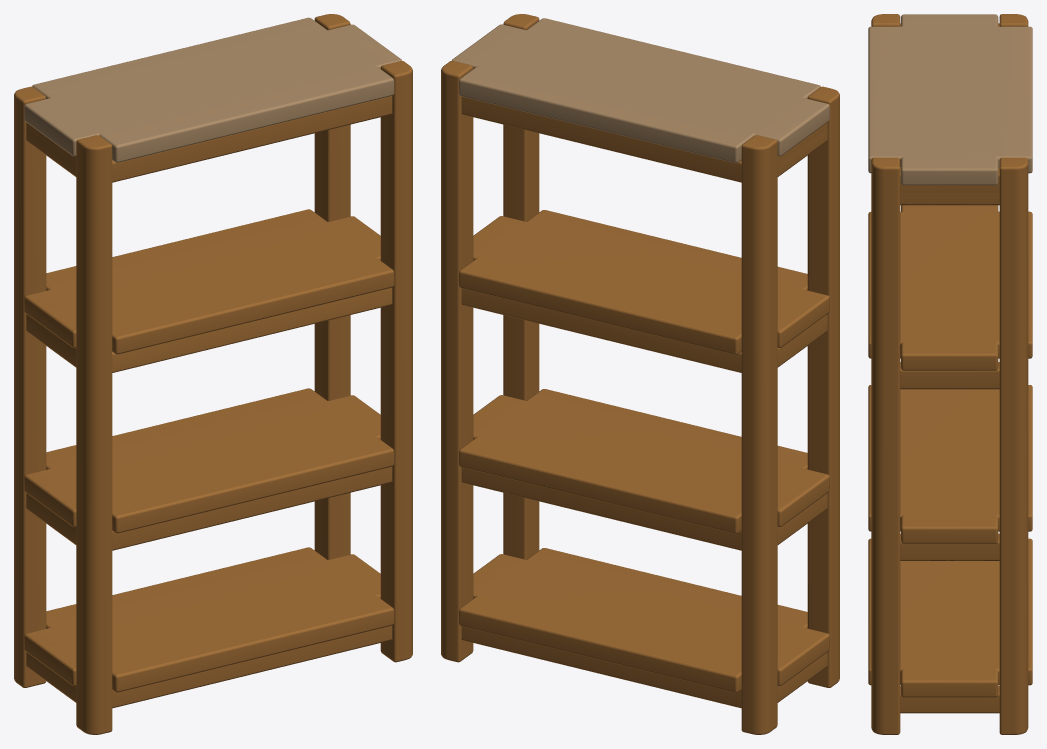
The model's file is SM_Shelf_Wood_03.fbx.
3 views of the same model, side by side, from view 1: azimuth 30°, elevation 25°; view 2: azimuth 150°, elevation 25°; view 3: azimuth 270°, elevation 25° (orthographic). The views are drawn at different scales.
Visible parts, largest first — view 1: Cube.027, Cube.023; view 2: Cube.027, Cube.023; view 3: Cube.027, Cube.023.
Boxes of the visible parts, x1,y1,x2,y2 form: Cube.027: (24, 17, 402, 692); Cube.023: (14, 14, 412, 734); Cube.027: (451, 18, 829, 692); Cube.023: (441, 14, 839, 734); Cube.027: (868, 14, 1032, 697); Cube.023: (871, 14, 1028, 734).
Bounding box in the file's own units: 141 × 240 × 62.94.
